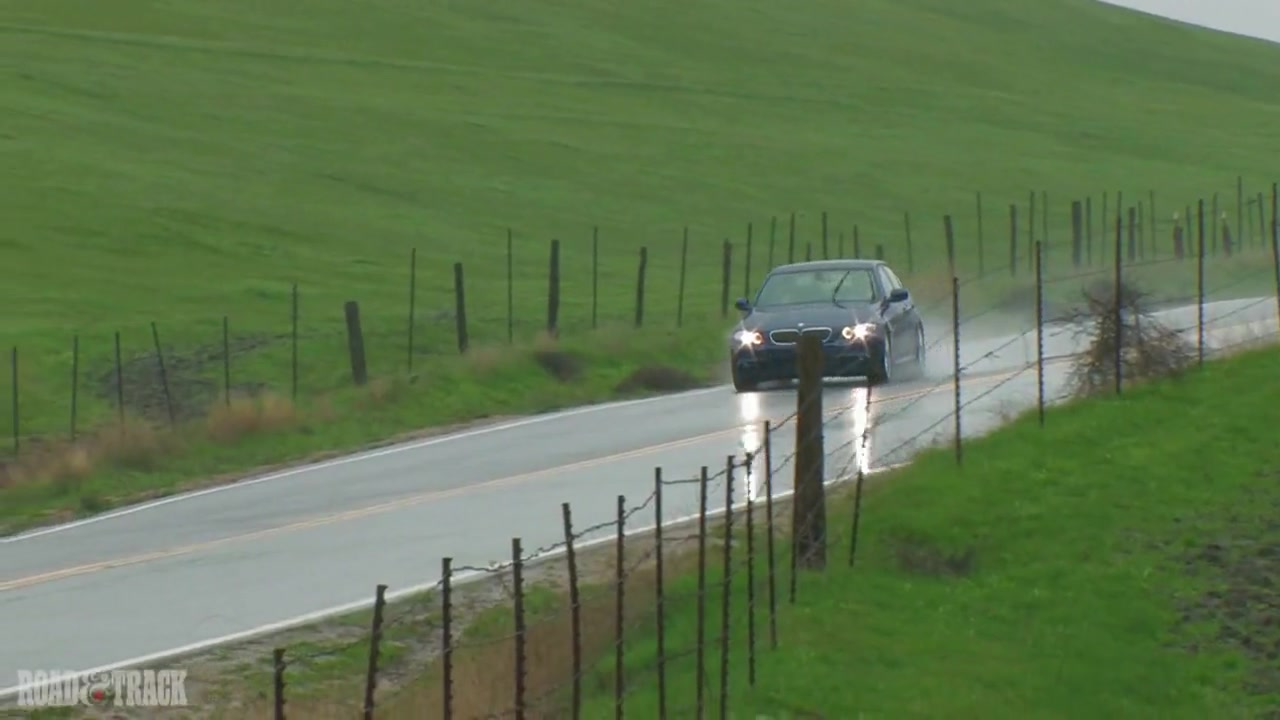car: (728, 265, 927, 394)
